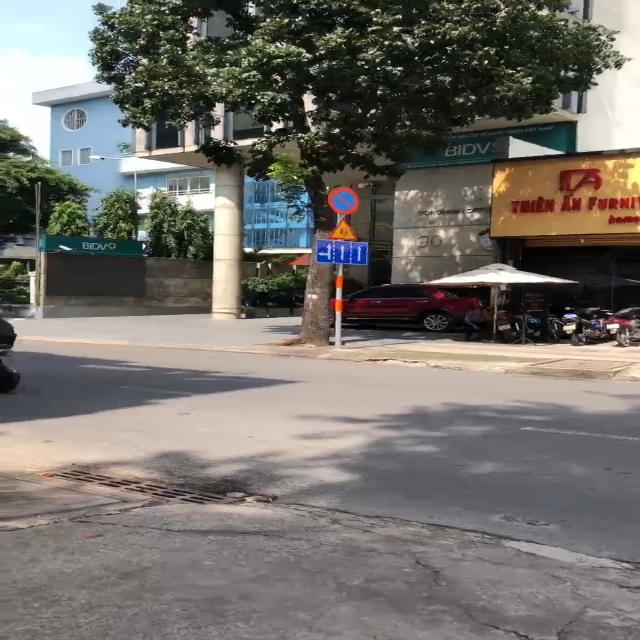Bien bao cam do xe: (326, 184, 364, 216)
Bien bao tre em: (327, 217, 364, 242)
